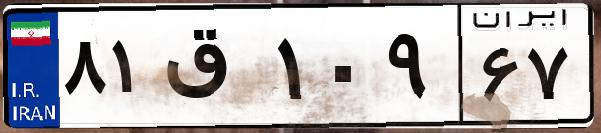0: (330, 28, 385, 110)
1: (270, 28, 330, 110), (110, 28, 158, 98)
6: (475, 38, 525, 113)
7: (525, 38, 570, 115)
8: (57, 26, 110, 100)
9: (385, 28, 445, 110)
ق: (158, 20, 270, 120)
